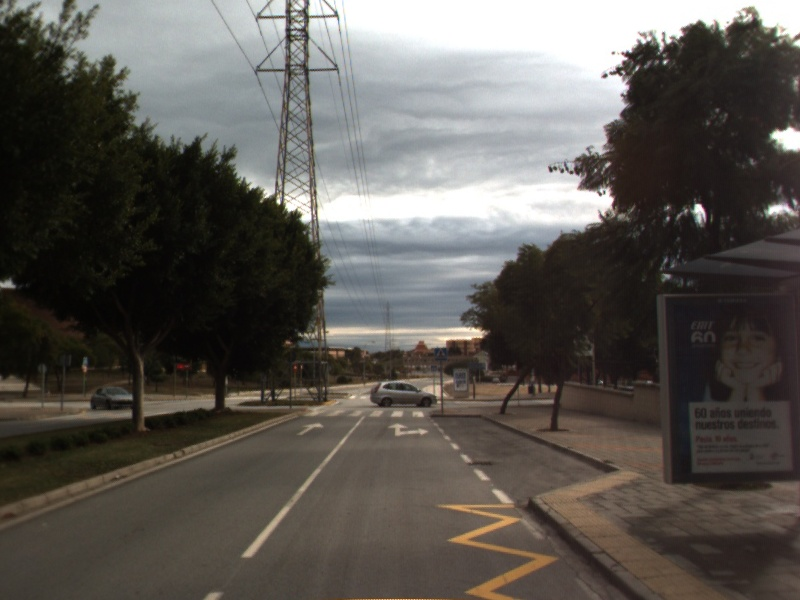STRAIGHT: (295, 420, 326, 437)
STRAIGHT_RIGHT: (386, 421, 431, 439)
